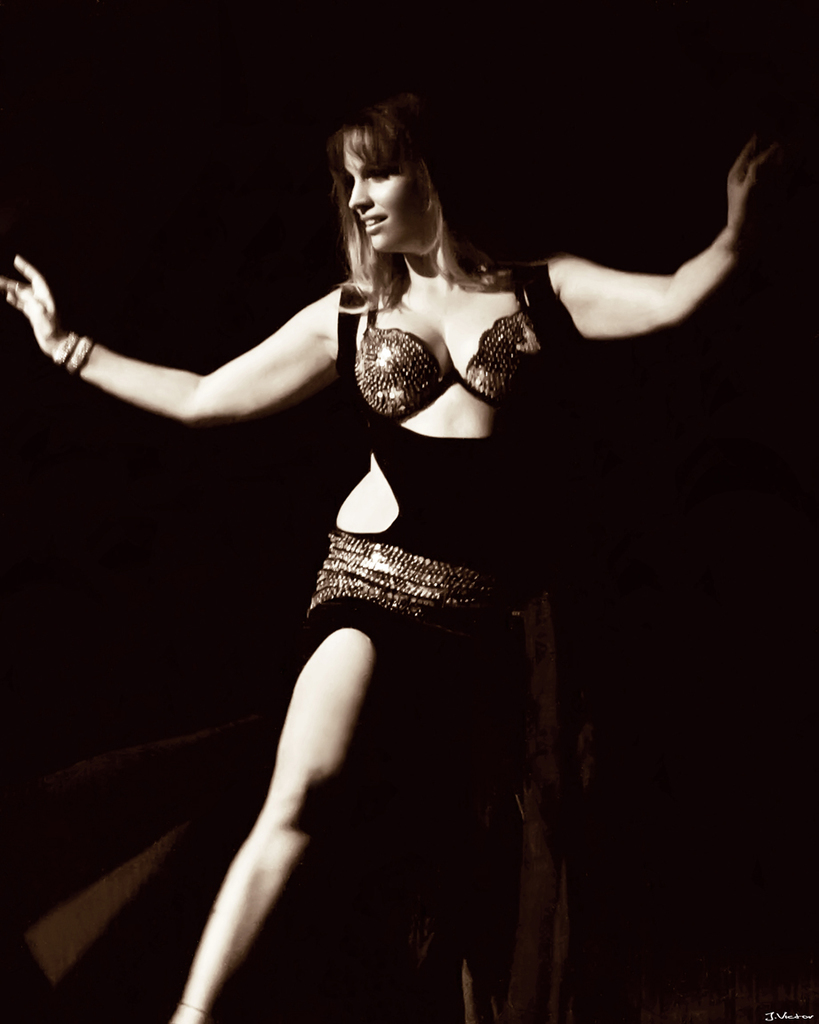face: (339, 129, 418, 249)
